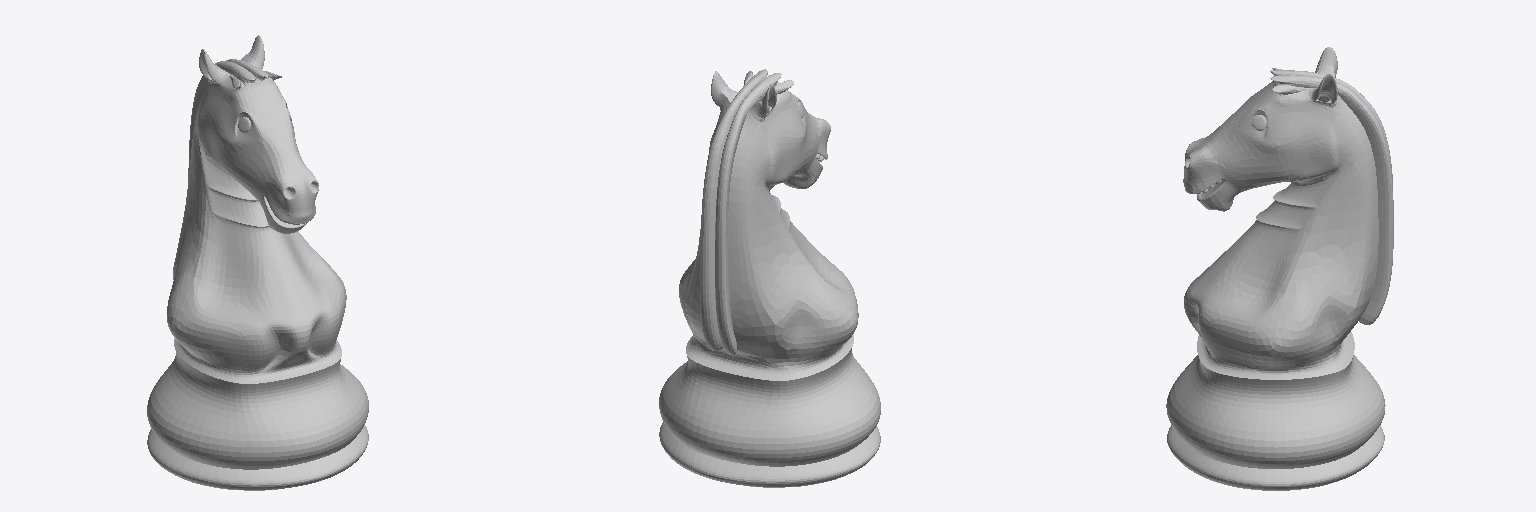
Rendered from horse.obj.
3 views of the same model, side by side, from view 1: azimuth 30°, elevation 25°; view 2: azimuth 150°, elevation 25°; view 3: azimuth 270°, elevation 25° (orthographic).
Visible parts, largest first — view 1: cylinder35_default; view 2: cylinder35_default; view 3: cylinder35_default.
Boxes of the visible parts, box(x1,y1,x2,y2) form: cylinder35_default: box(147, 35, 368, 490); cylinder35_default: box(659, 69, 880, 487); cylinder35_default: box(1166, 47, 1393, 490).
Bounding box in the file's own units: 1.14 × 2.18 × 1.15.